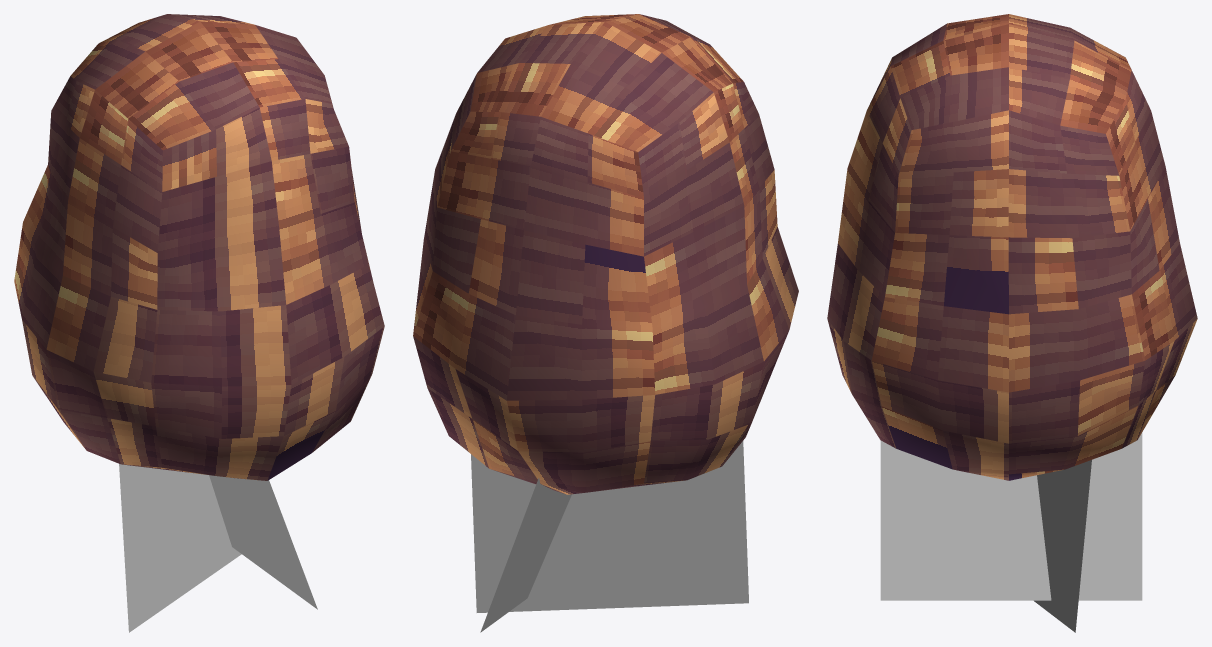
File: potato.dae
3 views of the same model, side by side, from view 1: azimuth 30°, elevation 25°; view 2: azimuth 150°, elevation 25°; view 3: azimuth 270°, elevation 25° (orthographic). The views are drawn at different scales.
Visible parts, largest first — view 1: Tato, Roots; view 2: Tato, Roots; view 3: Tato, Roots.
Part boxes in pixels (x1,y1,x2,y2): Tato: (14,14,384,480); Roots: (119,464,317,632); Tato: (413,14,798,494); Roots: (471,441,748,632); Tato: (827,14,1197,480); Roots: (880,432,1142,632).
Size of the model in its own units: 2.25 by 2.36 by 3.98.
